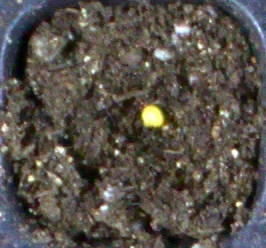pepper seed: (57, 41, 223, 169)
